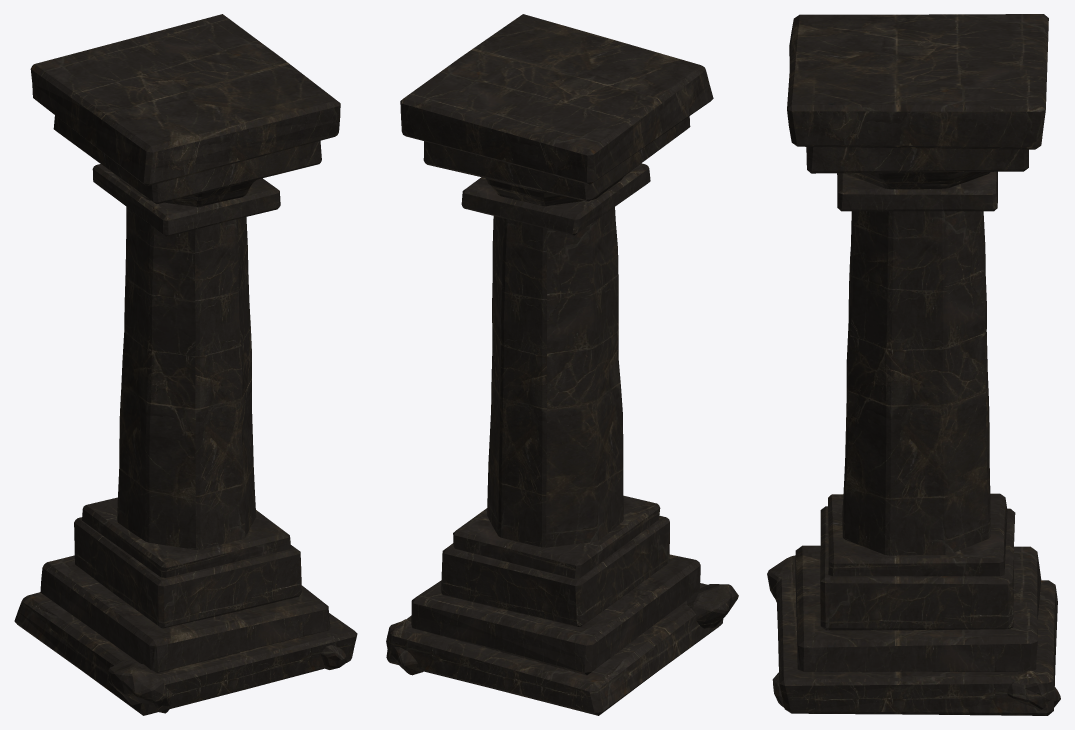
File: ruin_column_intact.glb
3 renders of one model, left to right at view 1: azimuth 30°, elevation 25°; view 2: azimuth 150°, elevation 25°; view 3: azimuth 270°, elevation 25°, orthographic. The views are drawn at different scales.
Visible parts, largest first — view 1: ruin_column_intact; view 2: ruin_column_intact; view 3: ruin_column_intact.
Boxes of the visible parts, <box> form: ruin_column_intact: <box>14,14,357,715</box>; ruin_column_intact: <box>386,14,738,715</box>; ruin_column_intact: <box>767,14,1060,715</box>.
Bounding box in the file's own units: 2 × 4.6 × 2.
1 material, 1 textured.
